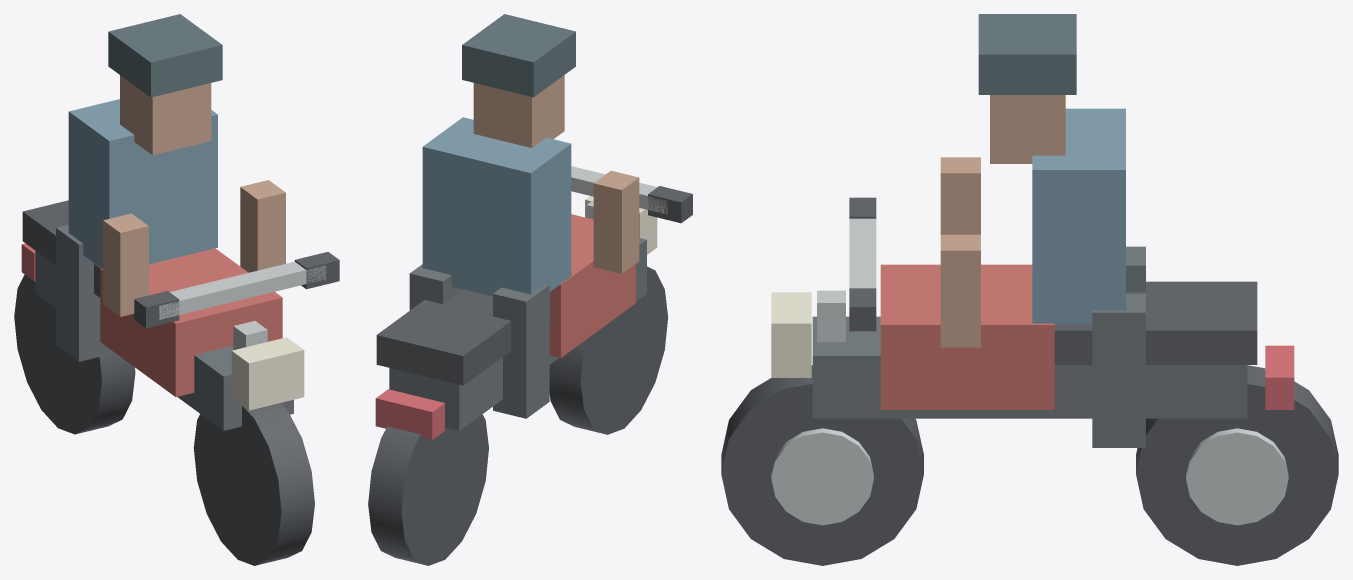
The model's file is dhaka-motorcycle.gltf.
The picture shows the model from 3 angles, left to right: view 1: azimuth 30°, elevation 25°; view 2: azimuth 150°, elevation 25°; view 3: azimuth 270°, elevation 25°; orthographic projection. The views are drawn at different scales.
Parts seen in each view (by area): view 1: driver-torso, motorcycle-tire-0.93, fuel-tank, motorcycle-tire--0.93, driver-helmet, driver-head, rider-leg--1, headlight, bike-main-frame, rider-arm--1, rider-arm-1, handle-bar (+5 smaller); view 2: driver-torso, motorcycle-tire--0.93, motorcycle-tire-0.93, seat, driver-helmet, fuel-tank, rider-leg--1, driver-head, bike-main-frame, rider-arm--1, rear-lamp, rider-leg-1 (+3 smaller); view 3: fuel-tank, motorcycle-tire-0.93, motorcycle-tire--0.93, driver-torso, bike-main-frame, seat, driver-helmet, motorcycle-hub--0.93, motorcycle-hub-0.93, rider-leg-1, driver-head, rider-arm-1 (+7 smaller).
Part boxes in pixels (box(x1,y1,x2,y2)): driver-torso: box(68, 99, 217, 268); motorcycle-tire-0.93: box(193, 403, 314, 565); fuel-tank: box(100, 248, 282, 396); motorcycle-tire--0.93: box(14, 274, 135, 434); driver-helmet: box(108, 14, 222, 97); driver-head: box(120, 75, 211, 155); rider-leg--1: box(56, 224, 112, 361); headlight: box(231, 337, 304, 410); bike-main-frame: box(35, 251, 293, 430); rider-arm--1: box(103, 213, 148, 316); rider-arm-1: box(240, 180, 285, 272); handle-bar: box(159, 261, 326, 319); driver-torso: box(422, 117, 571, 296); motorcycle-tire--0.93: box(368, 414, 488, 565); motorcycle-tire-0.93: box(549, 266, 668, 434); seat: box(376, 289, 550, 385); driver-helmet: box(462, 14, 575, 97); fuel-tank: box(549, 214, 635, 357); rider-leg--1: box(493, 284, 549, 418); driver-head: box(473, 75, 564, 147); bike-main-frame: box(389, 238, 646, 430); rider-arm--1: box(593, 170, 639, 273); rear-lamp: box(375, 389, 444, 439); rider-leg-1: box(409, 264, 462, 310); fuel-tank: box(880, 264, 1054, 409); motorcycle-tire-0.93: box(721, 365, 923, 565); motorcycle-tire--0.93: box(1136, 365, 1338, 565); driver-torso: box(1032, 108, 1125, 323); bike-main-frame: box(812, 316, 1247, 418); seat: box(1054, 281, 1257, 364); driver-helmet: box(978, 14, 1076, 94); motorcycle-hub--0.93: box(1186, 428, 1288, 525); motorcycle-hub-0.93: box(771, 428, 873, 525); rider-leg-1: box(1092, 294, 1145, 447); driver-head: box(990, 95, 1065, 163); rider-arm-1: box(940, 234, 980, 347).
Size of the model in its own units: 1.16 by 2.58 by 2.77.
